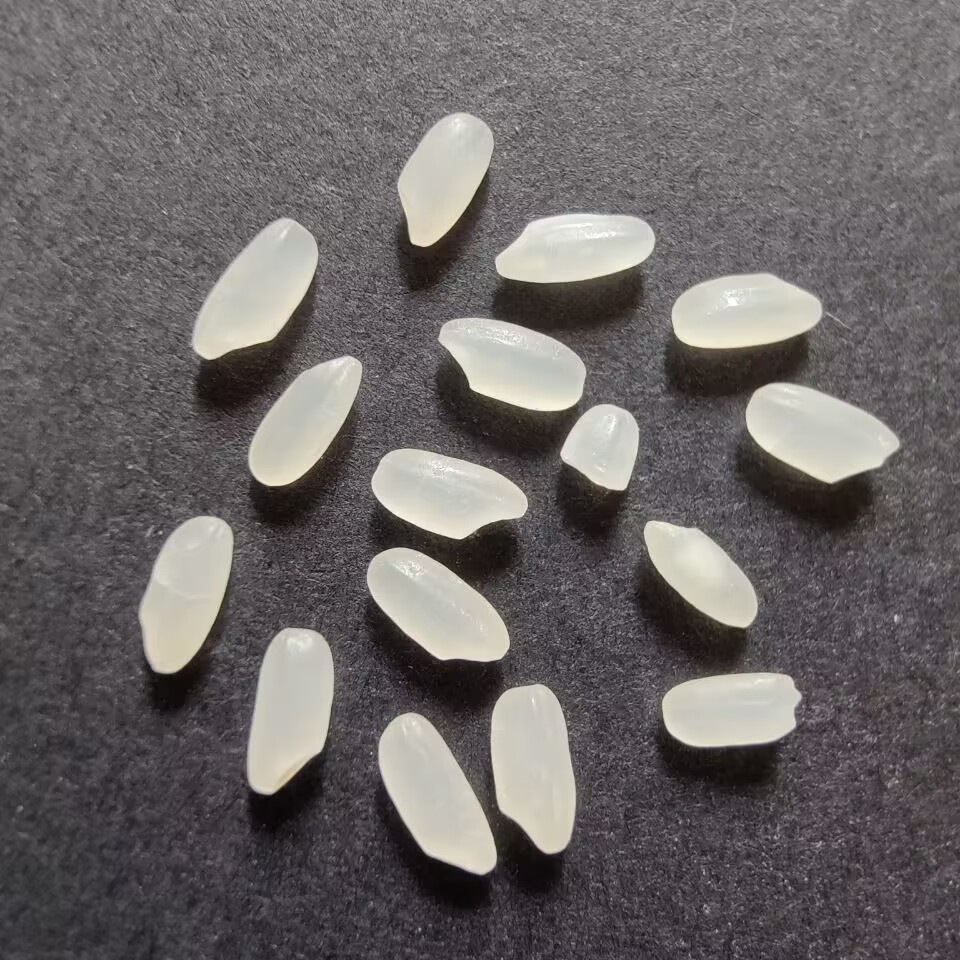broken: (552, 401, 646, 493)
rice: (371, 710, 505, 877), (188, 213, 321, 368), (361, 543, 517, 669), (738, 377, 905, 487), (134, 512, 237, 683), (241, 623, 338, 804), (484, 680, 581, 858), (431, 312, 592, 418), (243, 353, 364, 494), (367, 444, 529, 544), (637, 513, 761, 634), (392, 109, 495, 251), (666, 269, 830, 352), (656, 666, 804, 757), (489, 209, 661, 285)
